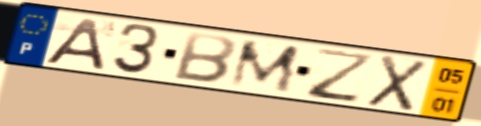3: (111, 23, 162, 76)
A: (40, 17, 107, 72)
B: (169, 30, 239, 85)
M: (226, 39, 304, 95)
X: (364, 53, 431, 114)
Z: (305, 46, 376, 106)
